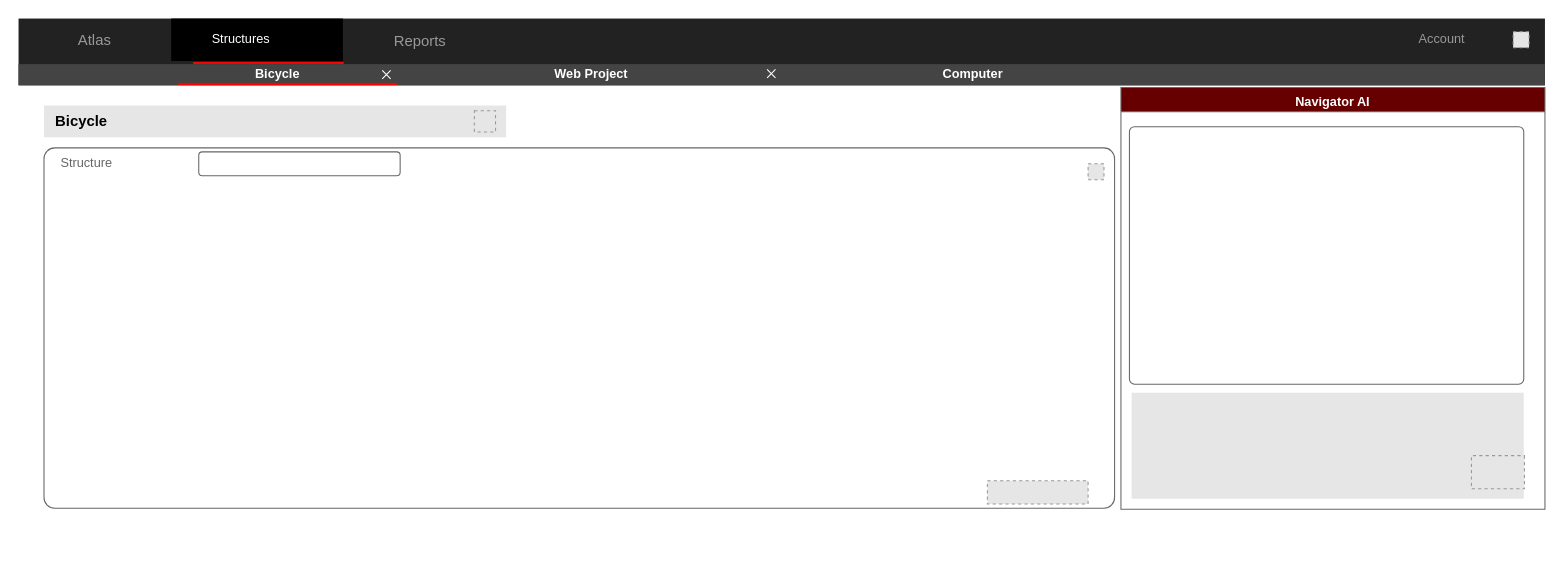
This 1563x568 diagram has some shape labels left out. Grey dashed boxes stand in for pictures. Each missing label, with the box of its shape:
Home: (49, 63, 145, 85)
Search: (198, 151, 400, 176)
Welcome to Navigator AI! How can I assist you today?: (1128, 126, 1524, 384)
